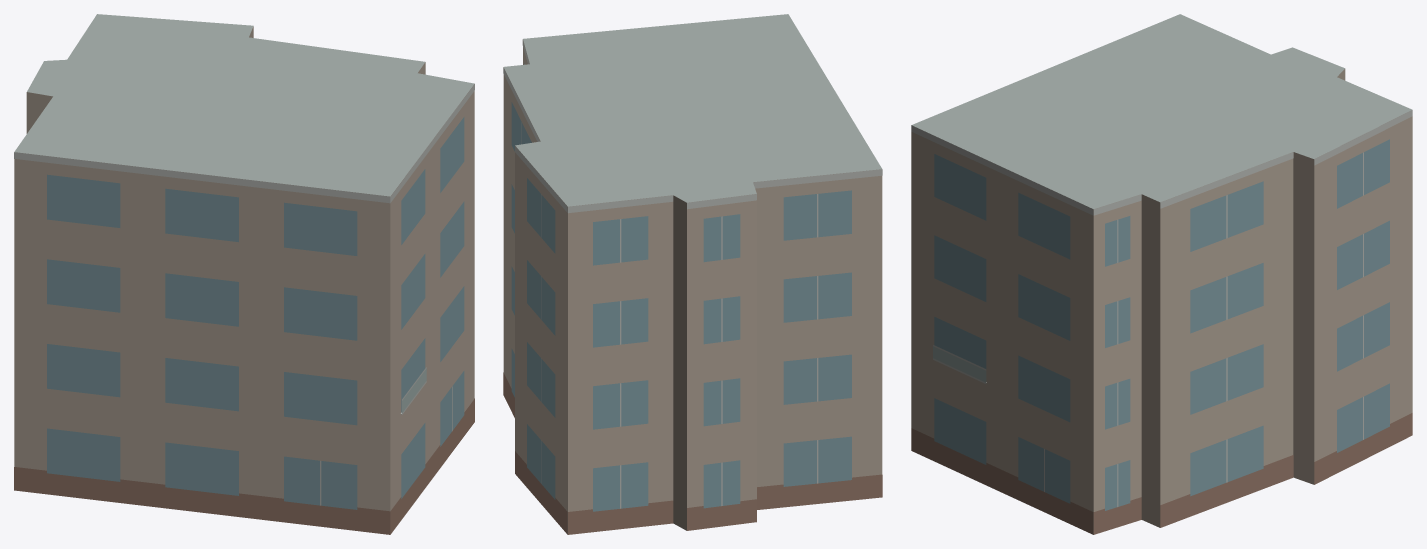
File: survey-upis-32640075.glb
3 views of the same model, side by side, from view 1: azimuth 30°, elevation 25°; view 2: azimuth 150°, elevation 25°; view 3: azimuth 270°, elevation 25° (orthographic). The views are drawn at different scales.
Visible parts, largest first — view 1: survey-upis-32640075.tmp; view 2: survey-upis-32640075.tmp; view 3: survey-upis-32640075.tmp.
Boxes of the visible parts, x1,y1,x2,y2 form: survey-upis-32640075.tmp: (14, 14, 474, 534); survey-upis-32640075.tmp: (503, 14, 882, 534); survey-upis-32640075.tmp: (911, 14, 1412, 534).
Bounding box in the file's own units: 15.69 × 12.2 × 17.02.
